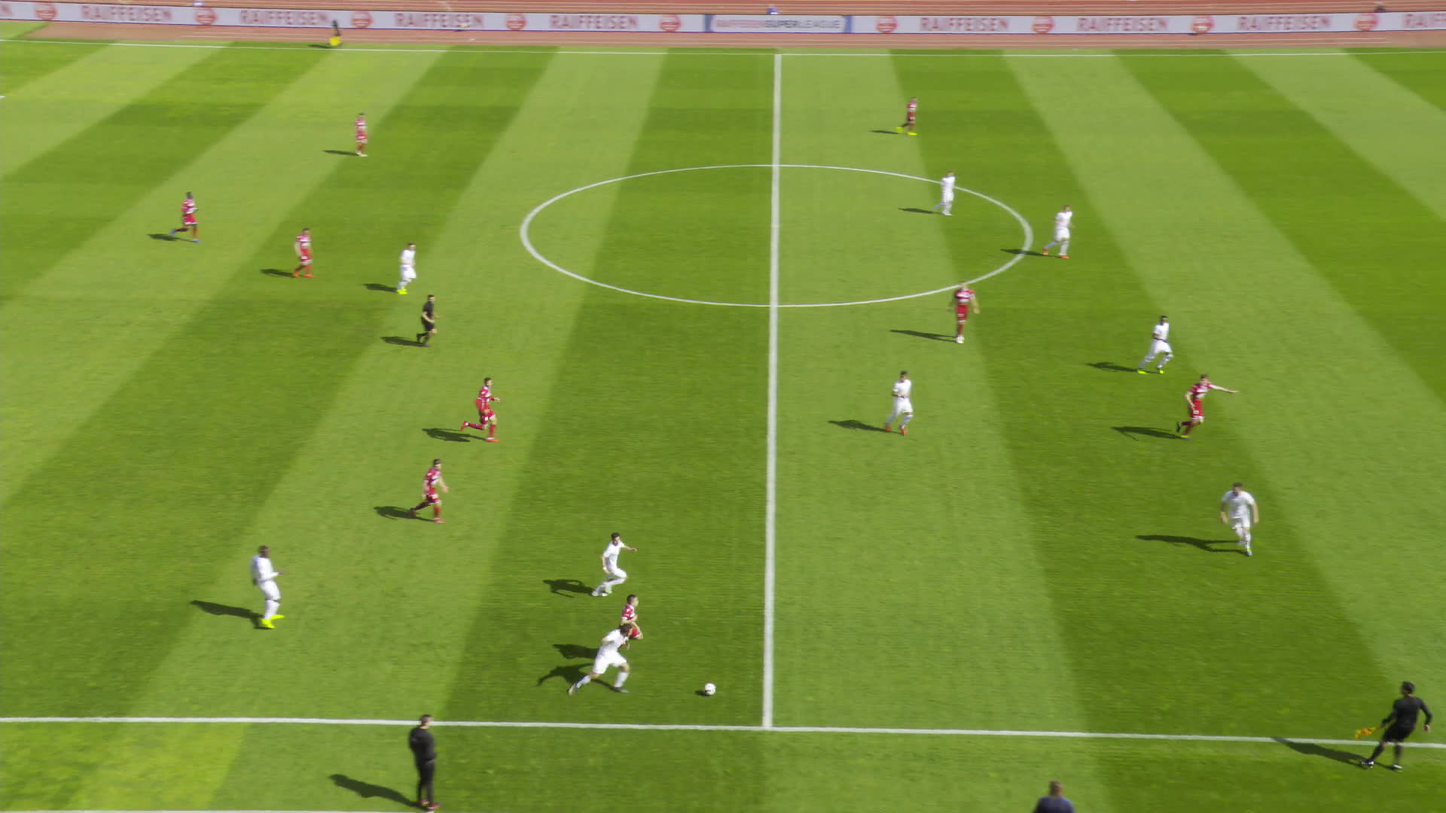ball: (701, 684, 712, 695)
player: (1173, 371, 1240, 441), (570, 625, 636, 696), (258, 545, 294, 629), (587, 532, 633, 595), (1227, 480, 1266, 553), (408, 457, 450, 523), (459, 377, 501, 442), (945, 279, 979, 343), (1136, 314, 1172, 374), (884, 370, 913, 434), (1050, 203, 1081, 259), (177, 190, 210, 242), (296, 226, 325, 278), (617, 594, 643, 647), (394, 242, 419, 294), (936, 170, 959, 216), (895, 96, 918, 136), (352, 112, 369, 157)
referee: (1359, 681, 1432, 769), (417, 294, 444, 347), (328, 19, 340, 47)
